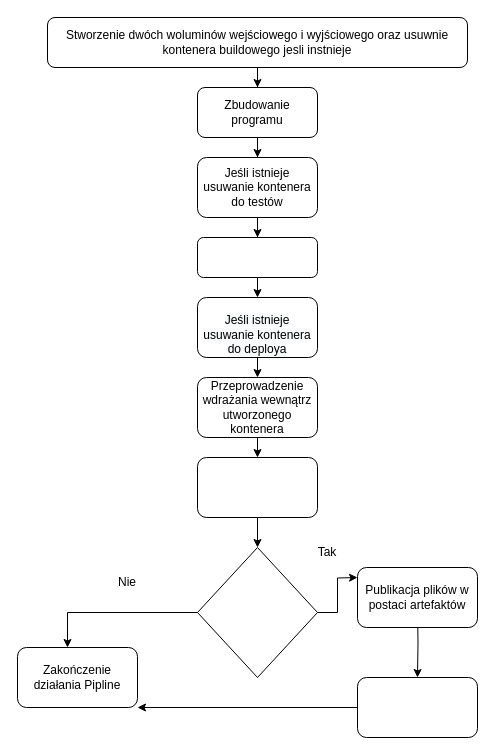
Image size: 495x755. Some labels were removed from this diagram. The box of each missing label's shape, as (x1, y1, x2, y2) in pixels:
Jeśli istnieje usuwanie kontenera do publisha: (196, 456, 318, 518)
PROMOTE==TRUE: (196, 546, 318, 678)
Uruchomienie testów: (196, 236, 318, 278)
Usuwanie wszystkich utworzonych wcześniej kontenerów: (356, 676, 478, 738)
